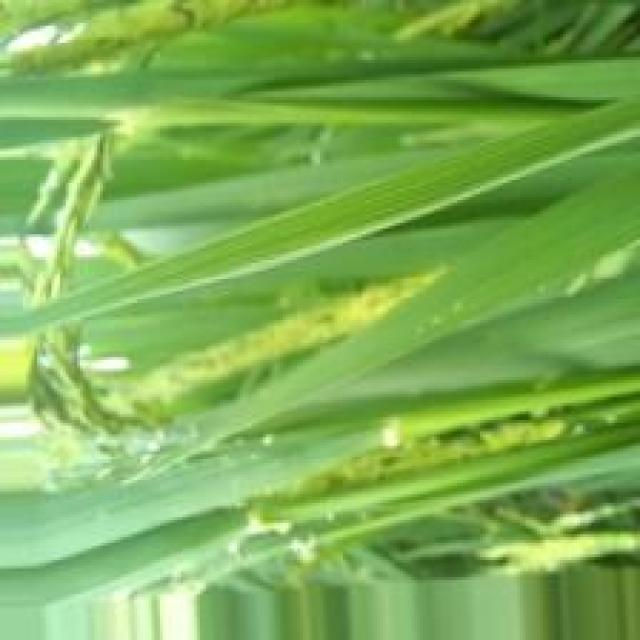HealthyLeaf: (484, 175, 634, 308), (286, 165, 449, 250), (117, 459, 235, 518)
